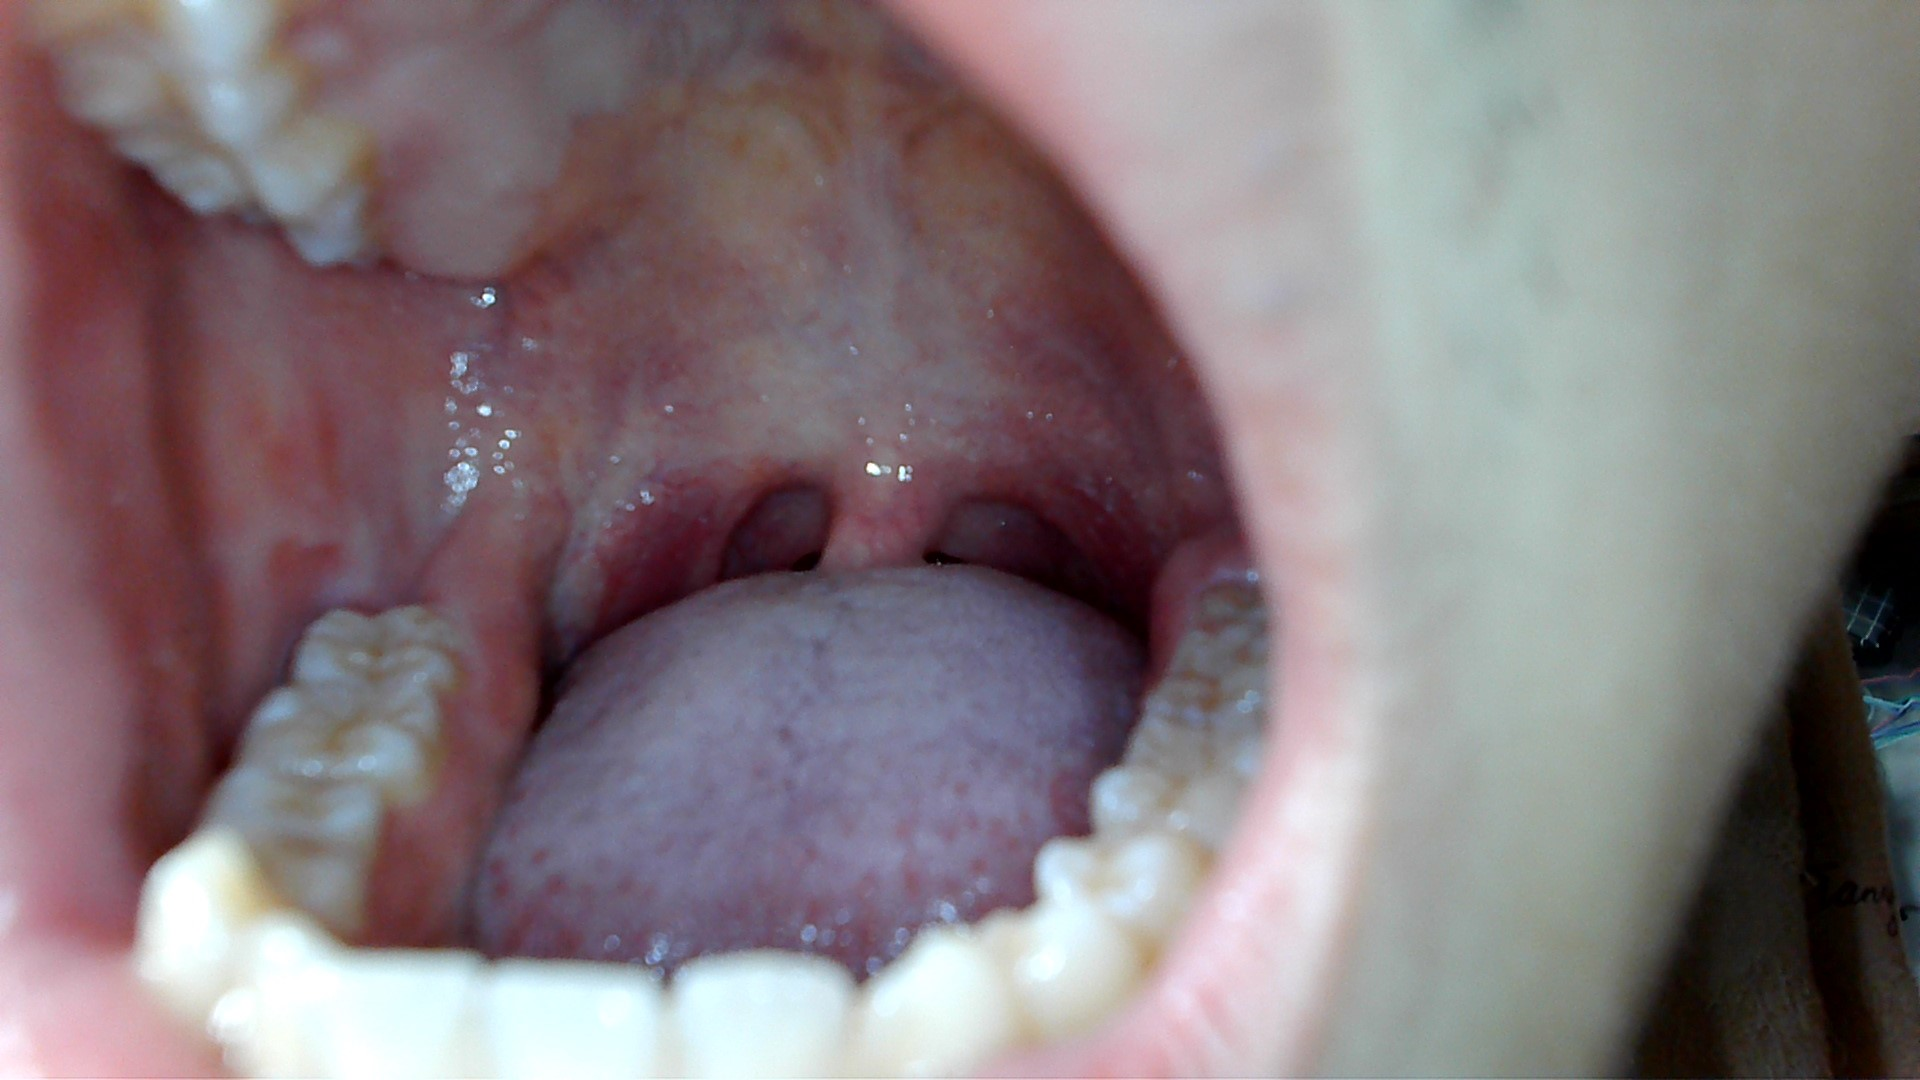throat: (1038, 472, 1134, 608), (650, 464, 754, 584)
